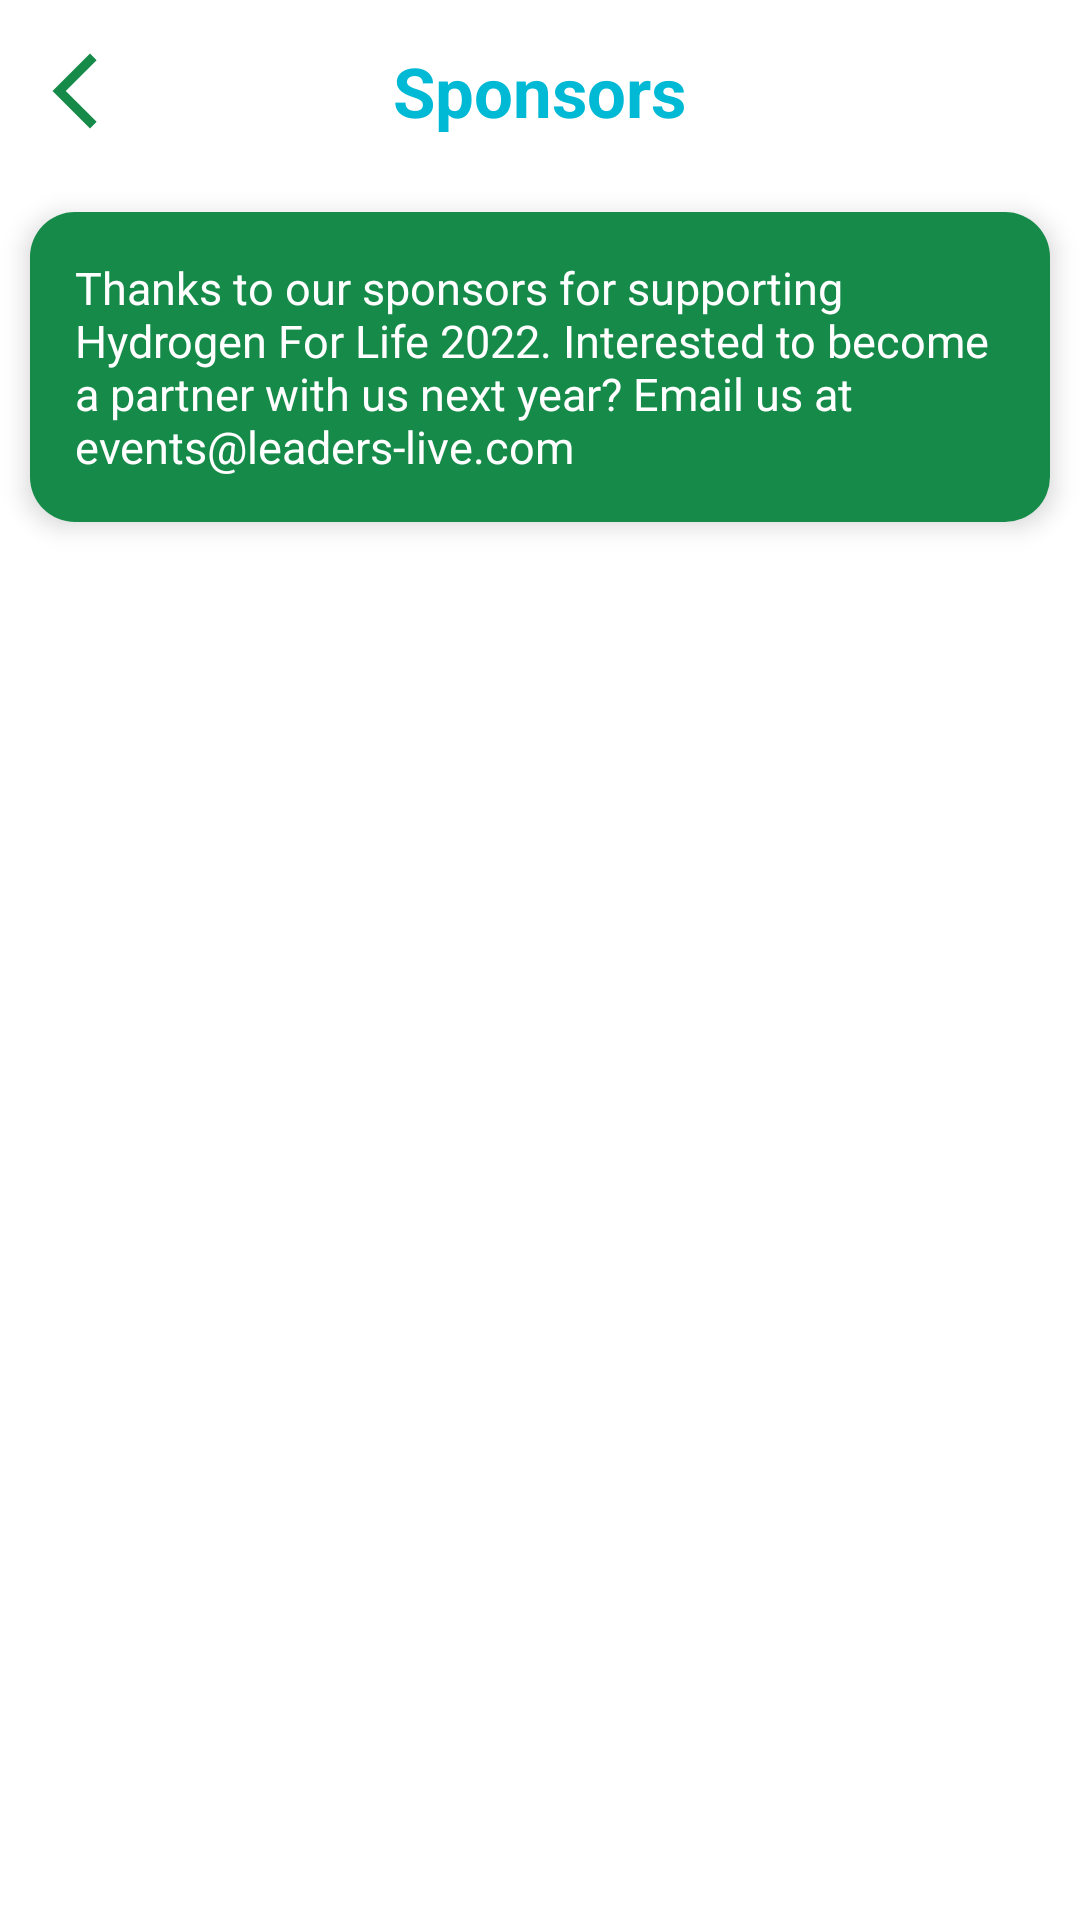

Screen size 1080 × 1920. Icon name, then its center in pixels as (x,y):
back: (74,91)
